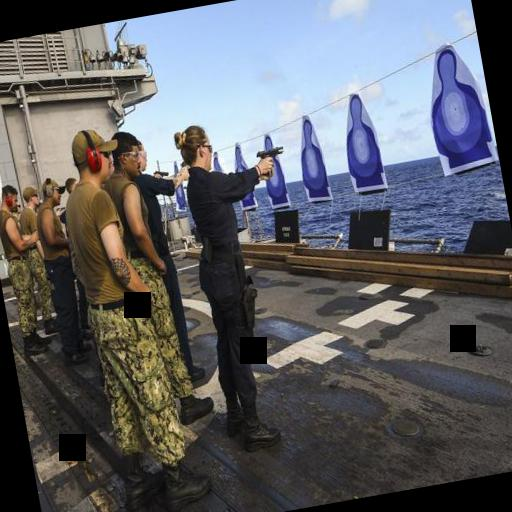Handgun: (253, 142, 287, 176), (151, 165, 169, 180)
